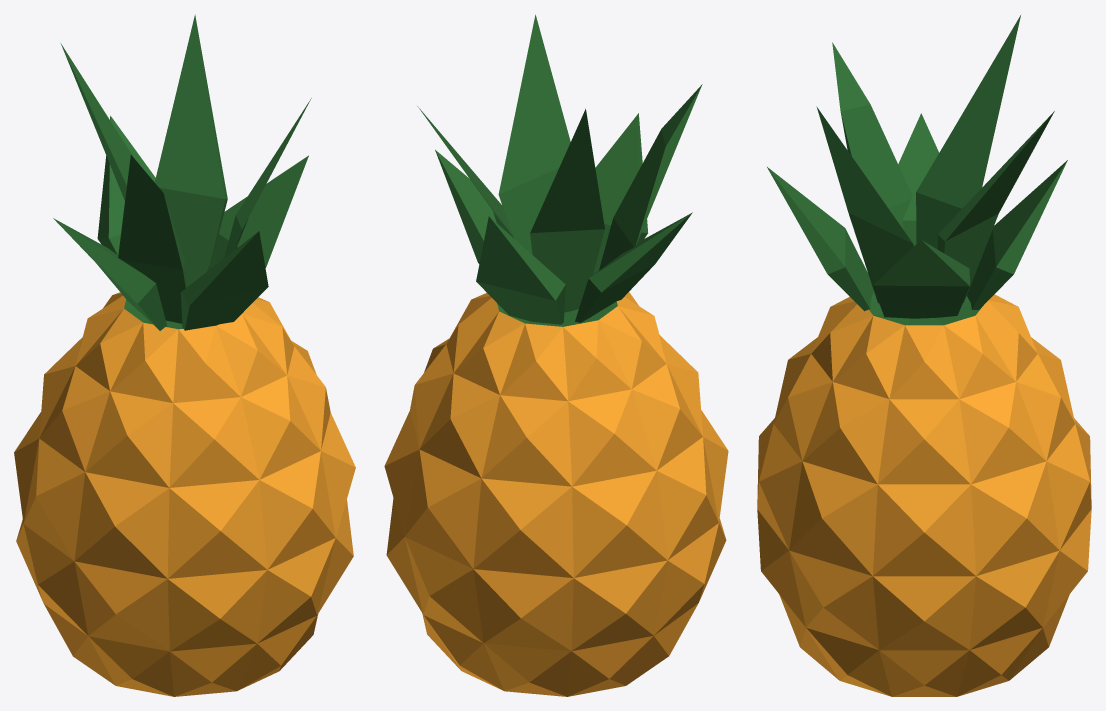
The model's file is food_pinaple.fbx.
3 renders of one model, left to right at view 1: azimuth 30°, elevation 25°; view 2: azimuth 150°, elevation 25°; view 3: azimuth 270°, elevation 25°, orthographic.
Parts seen in each view (by area): view 1: food_pinaple; view 2: food_pinaple; view 3: food_pinaple.
Boxes of the visible parts, bbox=[...] form: food_pinaple: bbox=[14, 14, 355, 696]; food_pinaple: bbox=[384, 14, 728, 696]; food_pinaple: bbox=[757, 15, 1091, 696].
Bounding box in the file's own units: 103 × 200 × 98.63.
